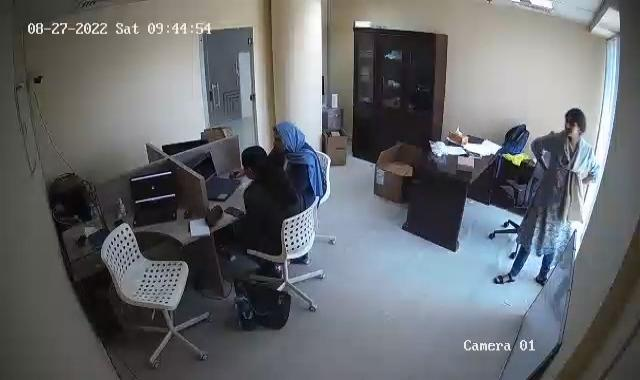no_hairnet: (273, 116, 307, 158), (235, 146, 270, 180), (564, 103, 587, 148)
